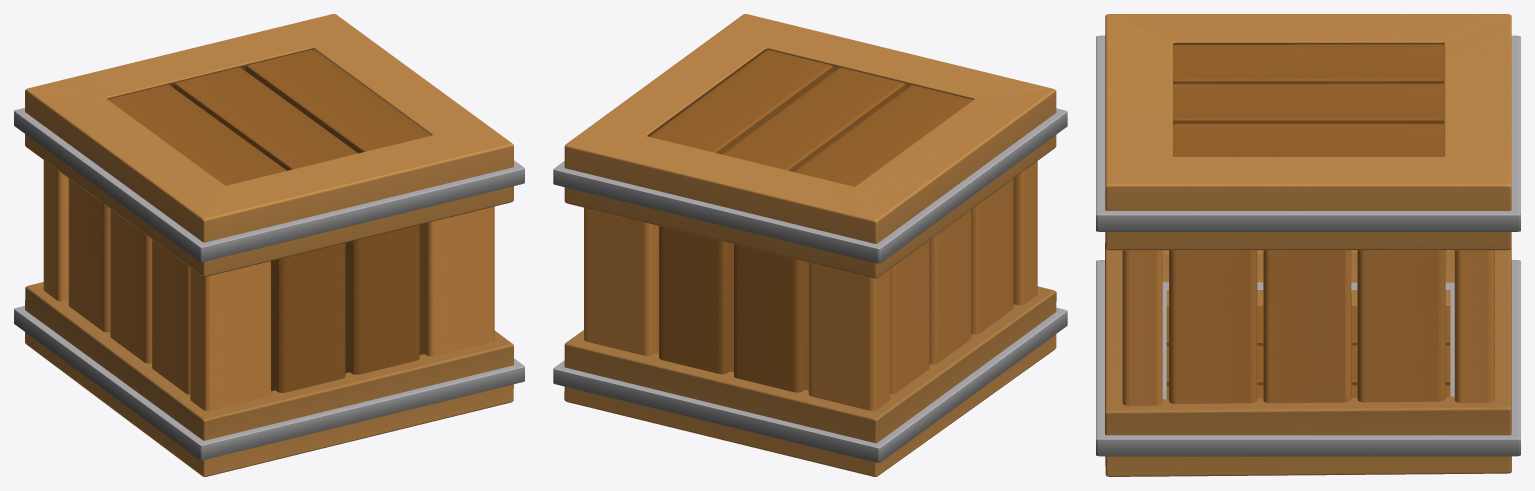
File: Caixa01.fbx
3 views of the same model, side by side, from view 1: azimuth 30°, elevation 25°; view 2: azimuth 150°, elevation 25°; view 3: azimuth 270°, elevation 25° (orthographic). The views are drawn at different scales.
Visible parts, largest first — view 1: Cube.007, Cube.006, Cube.008; view 2: Cube.007, Cube.006, Cube.008; view 3: Cube.007, Cube.006, Cube.008.
Part boxes in pixels (x1,y1,x2,y2): Cube.007: (14,14,524,476); Cube.006: (43,160,494,410); Cube.008: (107,49,430,185); Cube.007: (553,14,1067,476); Cube.006: (584,161,1037,410); Cube.008: (649,50,972,186); Cube.007: (1096,14,1520,476); Cube.006: (1122,250,1494,405); Cube.008: (1166,44,1450,399).
Size of the model in its own units: 25.44 by 19.34 by 25.44.
Materials: 4 (4 with a texture image).
